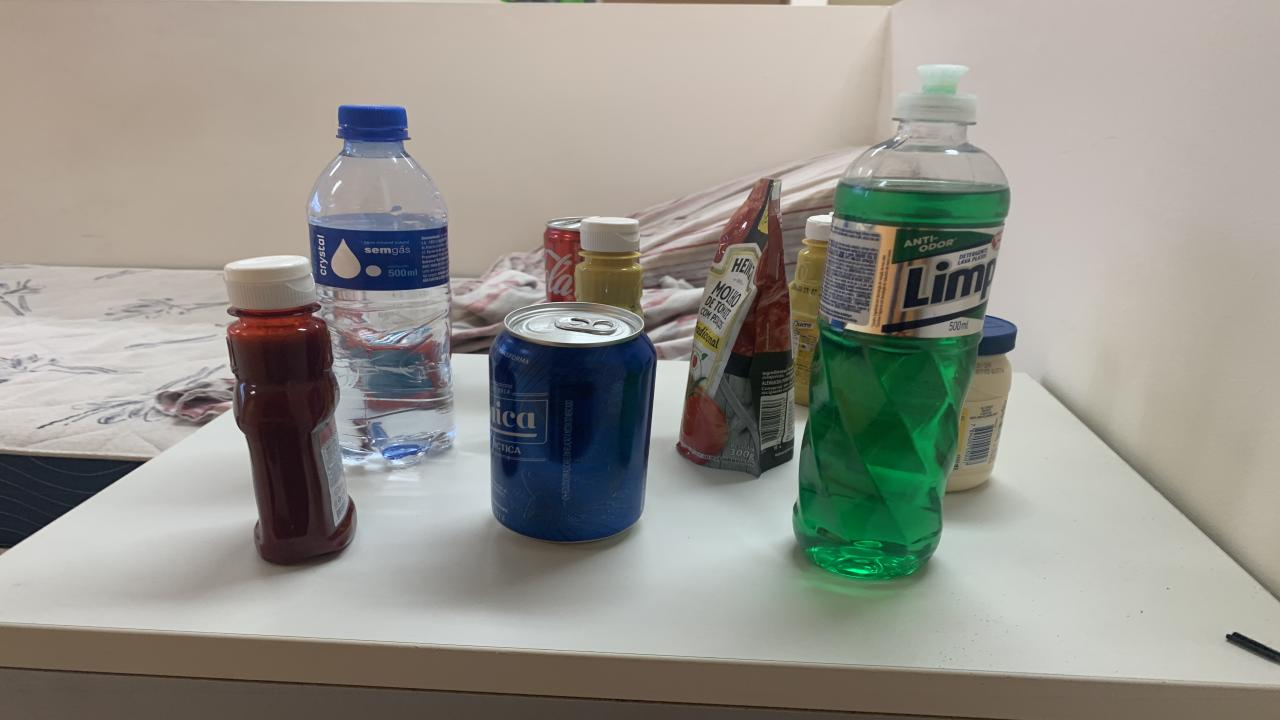Coke-Drinks: (545, 218, 582, 302)
Detergent-Cleanup_Items: (795, 66, 1010, 579)
Ketchup-Pantry_Items: (222, 255, 355, 564)
Mayonnaise-Pantry_Items: (945, 315, 1018, 491)
Mustard-Pantry_Items: (575, 218, 642, 317)
Tomato_Sauce-Pantry_Items: (678, 178, 795, 476)
Tonic-Drinks: (490, 302, 655, 542)
Water_Bottle-Drinks: (308, 105, 455, 465)
